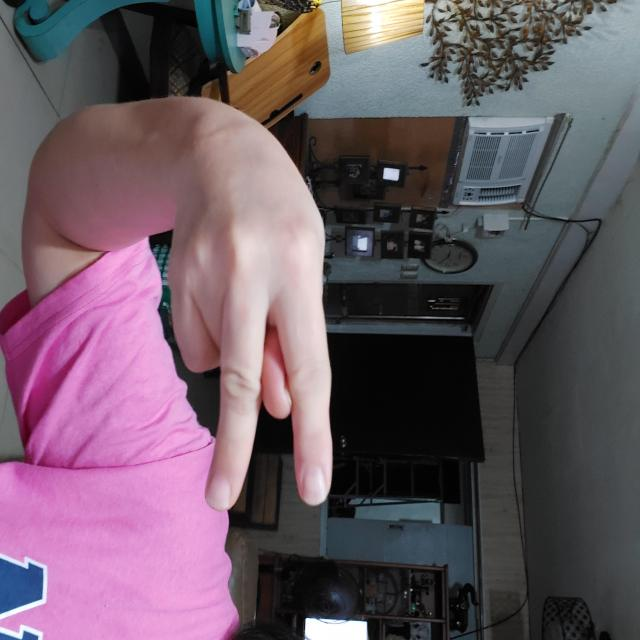K: (117, 306, 511, 473)
